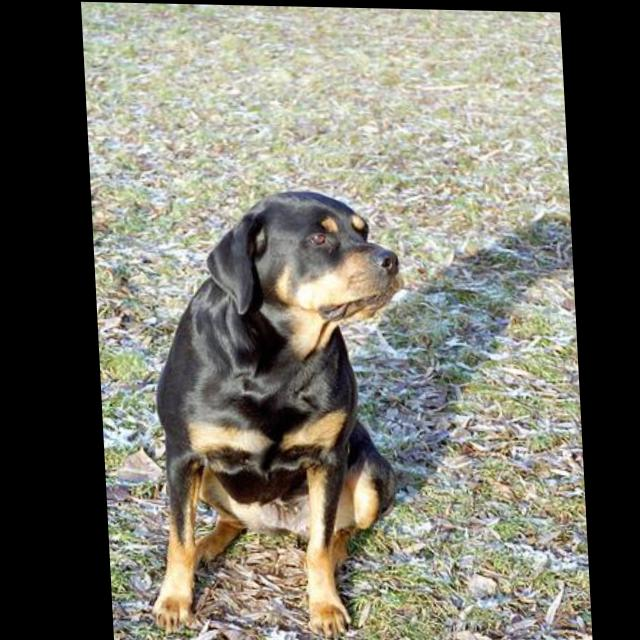rottweiler: (126, 186, 415, 640)
